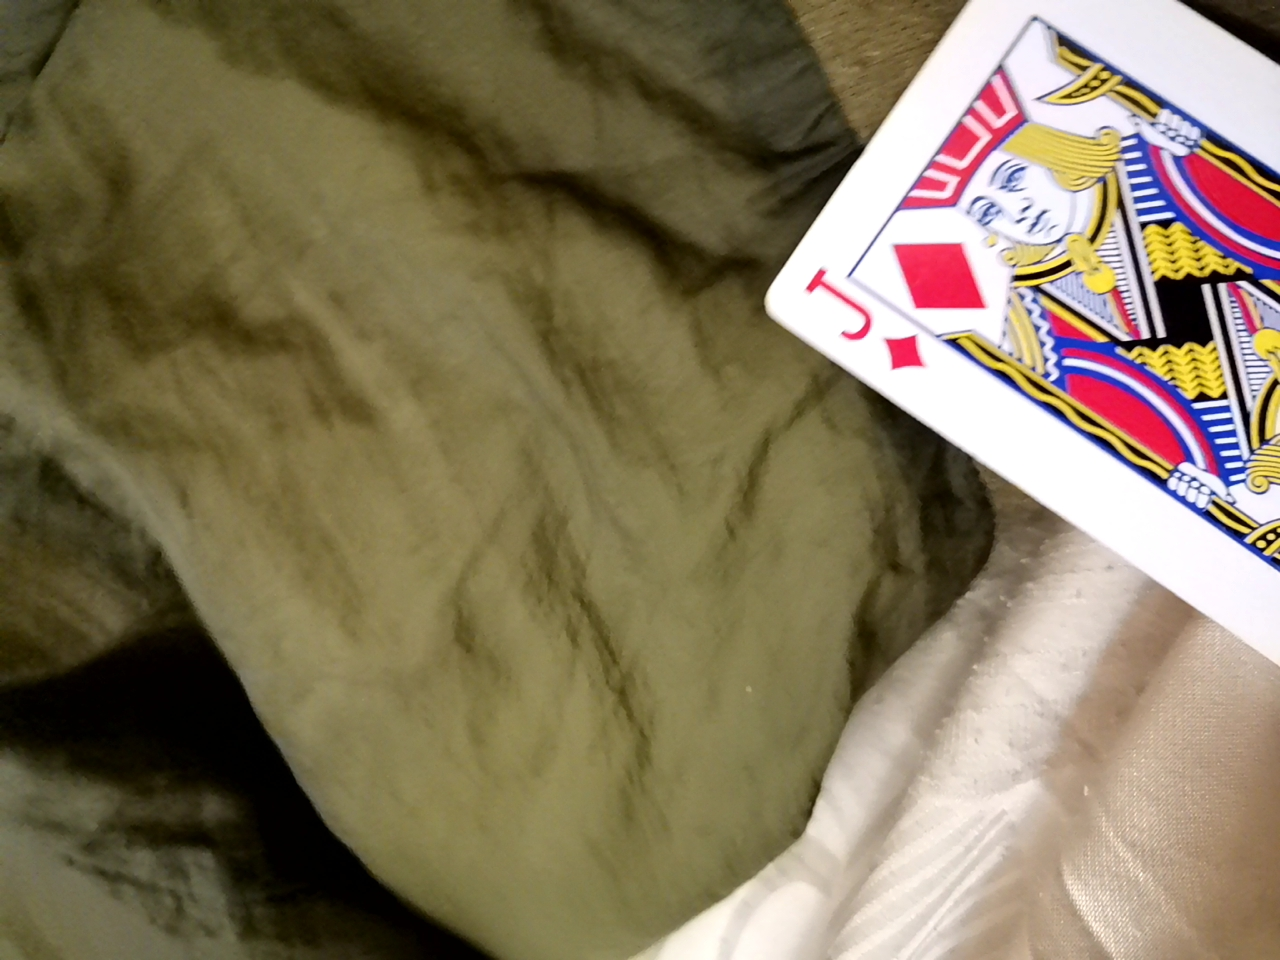fk j: (745, 7, 1274, 745)
